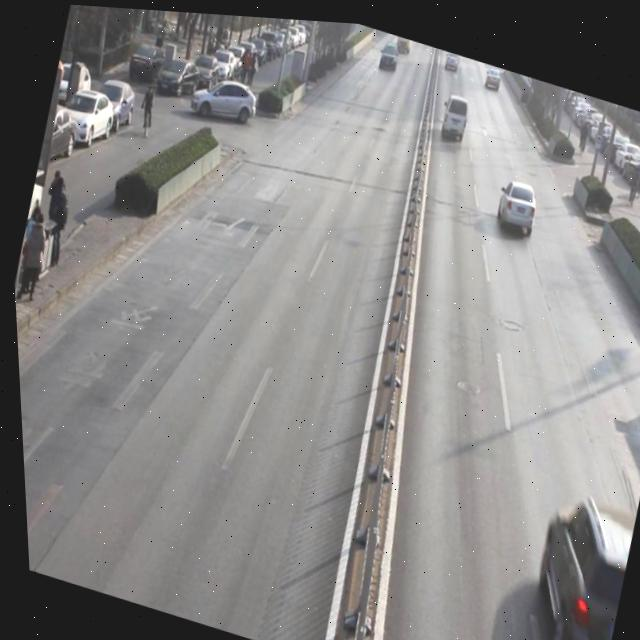car: (503, 474, 638, 640), (487, 166, 543, 236), (375, 34, 402, 71), (481, 59, 506, 88)
truck: (432, 83, 471, 149)
